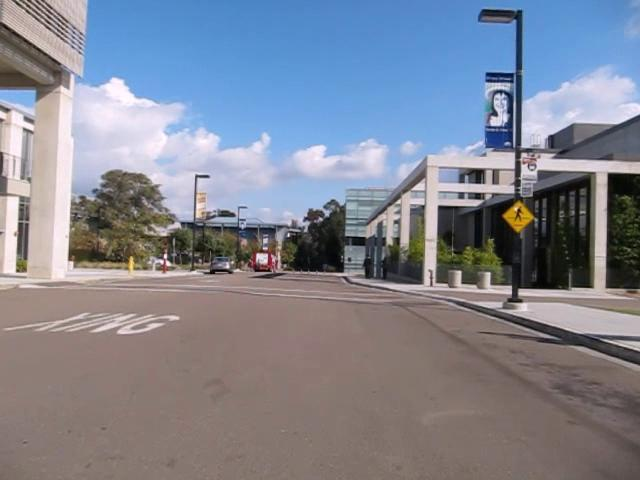pedestrianCrossing: (501, 198, 535, 233)
